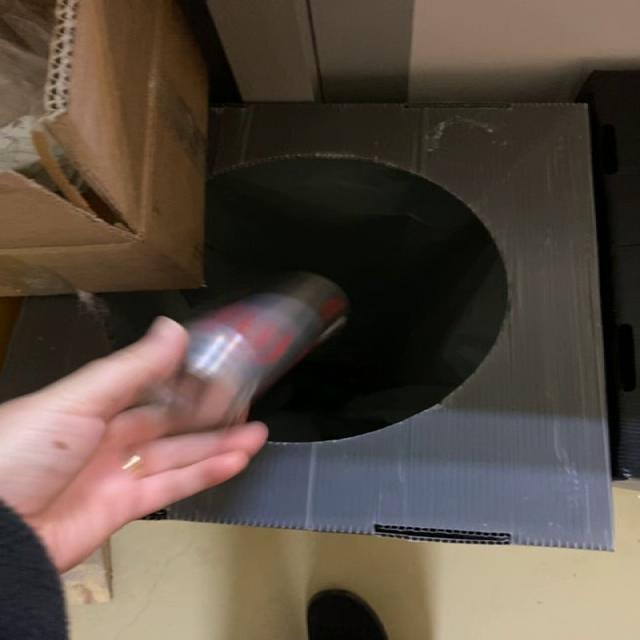Metal: (155, 274, 347, 431)
